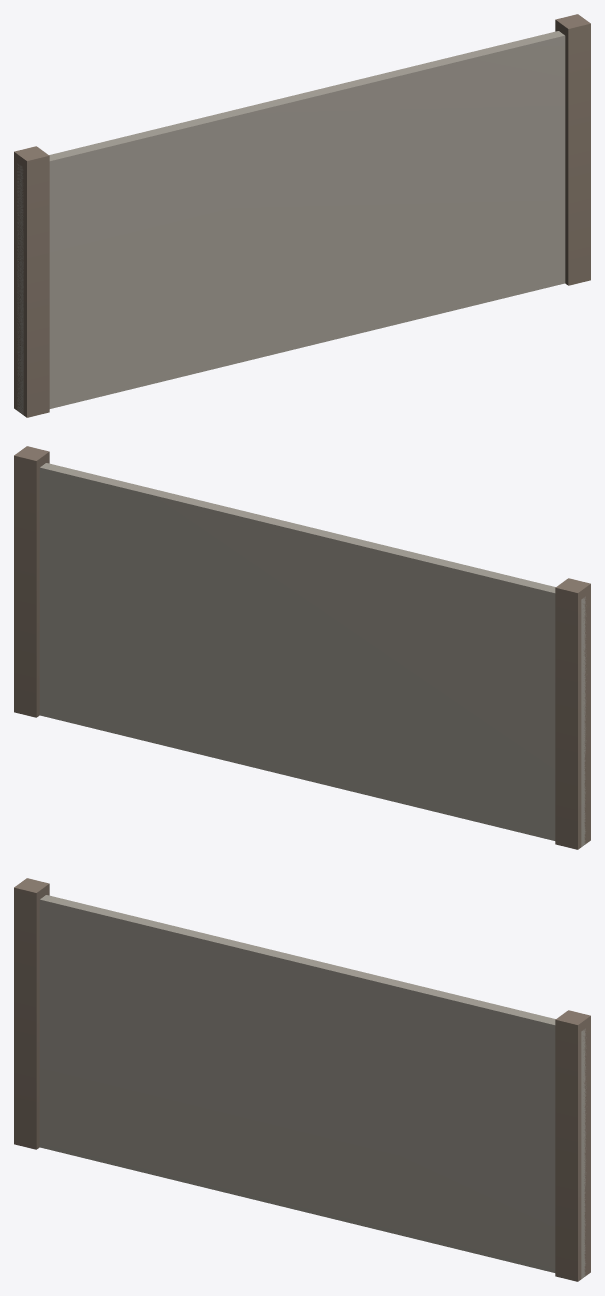
Rendered from fence.lod2.glb.
The picture shows the model from 3 angles, top to bottom: view 1: azimuth 30°, elevation 25°; view 2: azimuth 150°, elevation 25°; view 3: azimuth 330°, elevation 25°; orthographic projection.
Bounding box in the file's own units: 4 × 1.74 × 0.16.
